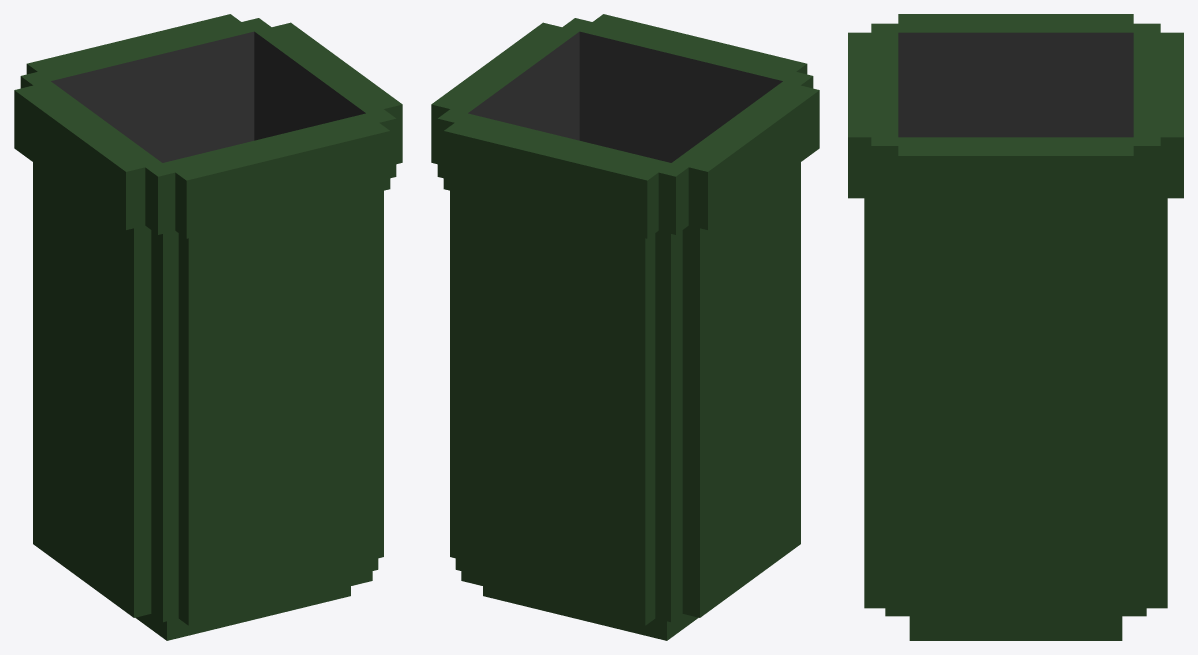
Rendered from trashRoad.fbx.
3 views of the same model, side by side, from view 1: azimuth 30°, elevation 25°; view 2: azimuth 150°, elevation 25°; view 3: azimuth 270°, elevation 25° (orthographic). The views are drawn at different scales.
Visible parts, largest first — view 1: roadTrash; view 2: roadTrash; view 3: roadTrash.
Part boxes in pixels (<box>): roadTrash: <box>14,14,402,640</box>; roadTrash: <box>431,14,819,640</box>; roadTrash: <box>848,14,1183,640</box>.
Bounding box in the file's own units: 128 × 215 × 128.
